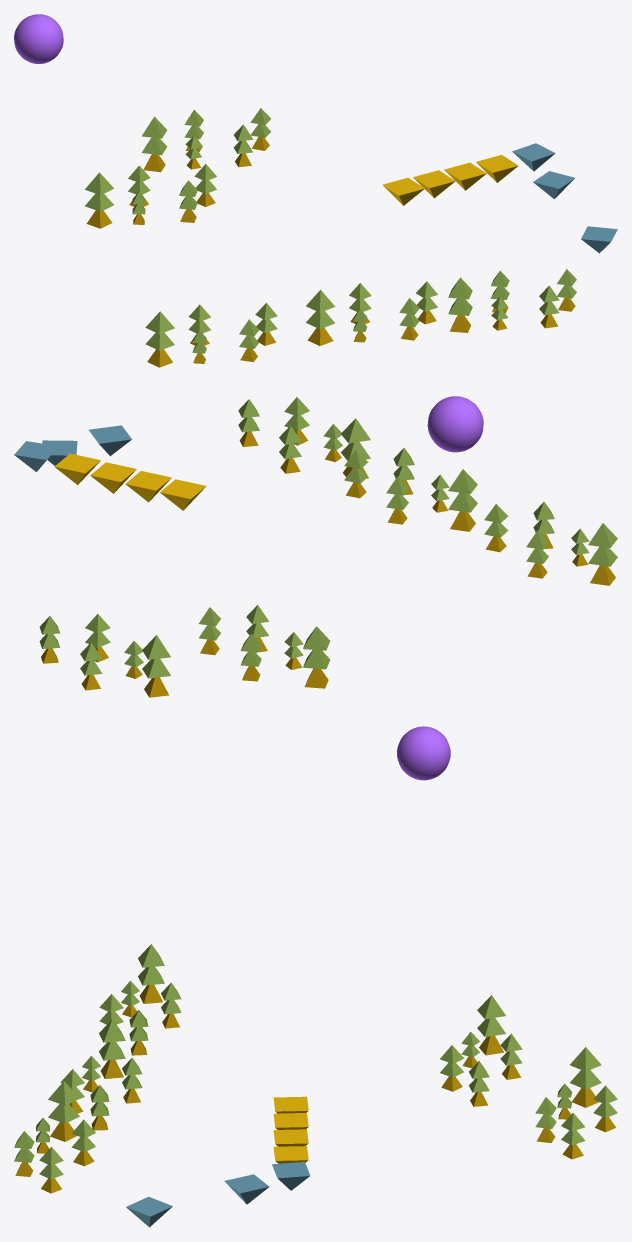
The model's file is level_past.fbx.
3 views of the same model, one above another, from view 1: azimuth 30°, elevation 25°; view 2: azimuth 150°, elevation 25°; view 3: azimuth 270°, elevation 25° (orthographic). The views are drawn at different scales.
Visible parts, largest first — view 1: pSphere5, platform3, bridge_part3, platform2, bridge_part1, bridge_part2, bridge_part, platform; view 2: pSphere5, tree_leaves1 (×5), bridge_part1, bridge_part3, bridge_part, bridge_part2, platform, platform3, platform2; view 3: pSphere5, platform, platform2, platform3.
Part boxes in pixels (x1=…): pSphere5: x1=14, y1=14, x2=63, y2=63; platform3: x1=512, y1=143, x2=555, y2=171; bridge_part3: x1=476, y1=155, x2=518, y2=182; platform2: x1=533, y1=171, x2=574, y2=199; bridge_part1: x1=413, y1=170, x2=455, y2=198; bridge_part2: x1=444, y1=162, x2=486, y2=190; bridge_part: x1=382, y1=177, x2=424, y2=205; platform: x1=581, y1=226, x2=617, y2=253; pSphere5: x1=427, y1=396, x2=483, y2=452; tree_leaves1 (×5): x1=142, y1=418, x2=617, y2=659; bridge_part1: x1=125, y1=471, x2=171, y2=502; bridge_part3: x1=54, y1=453, x2=100, y2=484; bridge_part: x1=160, y1=479, x2=206, y2=510; bridge_part2: x1=90, y1=462, x2=136, y2=493; platform: x1=88, y1=425, x2=131, y2=456; platform3: x1=14, y1=441, x2=58, y2=471; platform2: x1=42, y1=440, x2=77, y2=465; pSphere5: x1=397, y1=726, x2=450, y2=780; platform: x1=126, y1=1196, x2=172, y2=1227; platform2: x1=224, y1=1174, x2=269, y2=1204; platform3: x1=272, y1=1162, x2=310, y2=1190.
Size of the model in its own units: 55.65 by 28.29 by 56.8.
